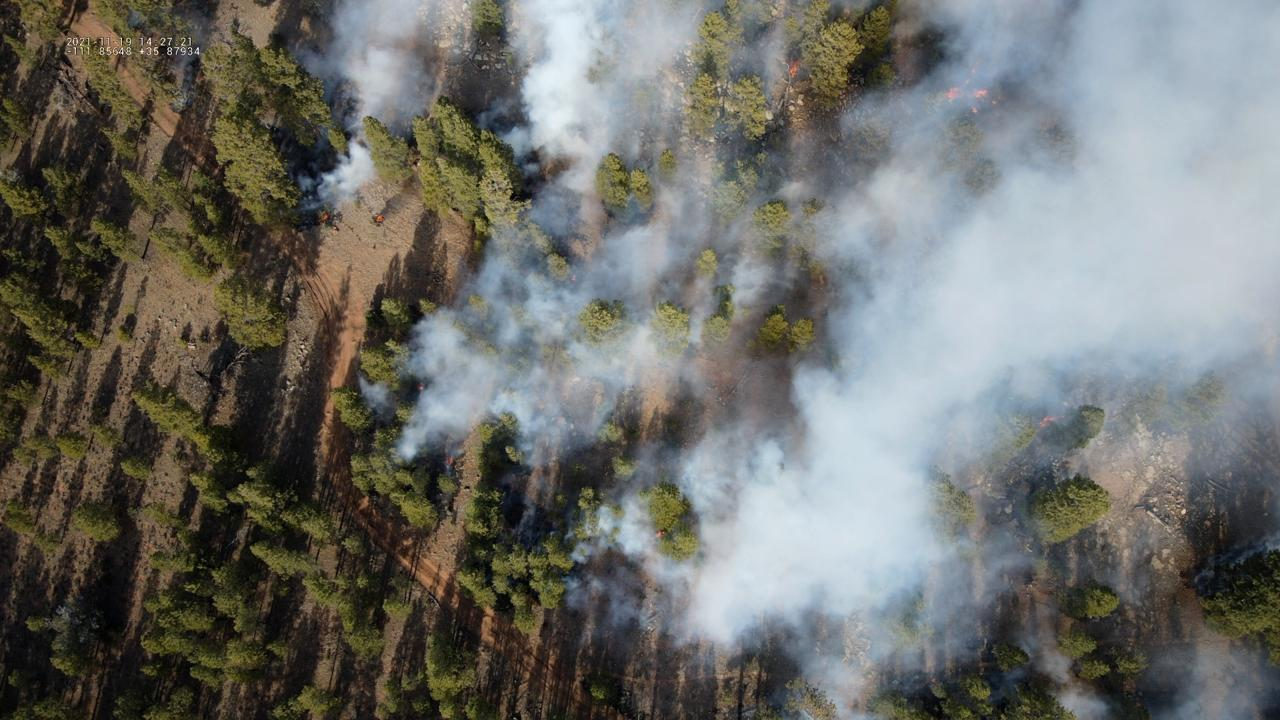fire: (1037, 413, 1065, 428), (787, 59, 801, 79), (941, 88, 962, 101), (971, 89, 988, 100), (445, 454, 454, 466), (375, 215, 385, 223), (655, 530, 664, 538), (320, 214, 328, 222), (417, 384, 424, 392), (971, 107, 980, 113), (971, 66, 976, 75)
smoke: (280, 0, 1280, 720), (125, 6, 211, 93)
